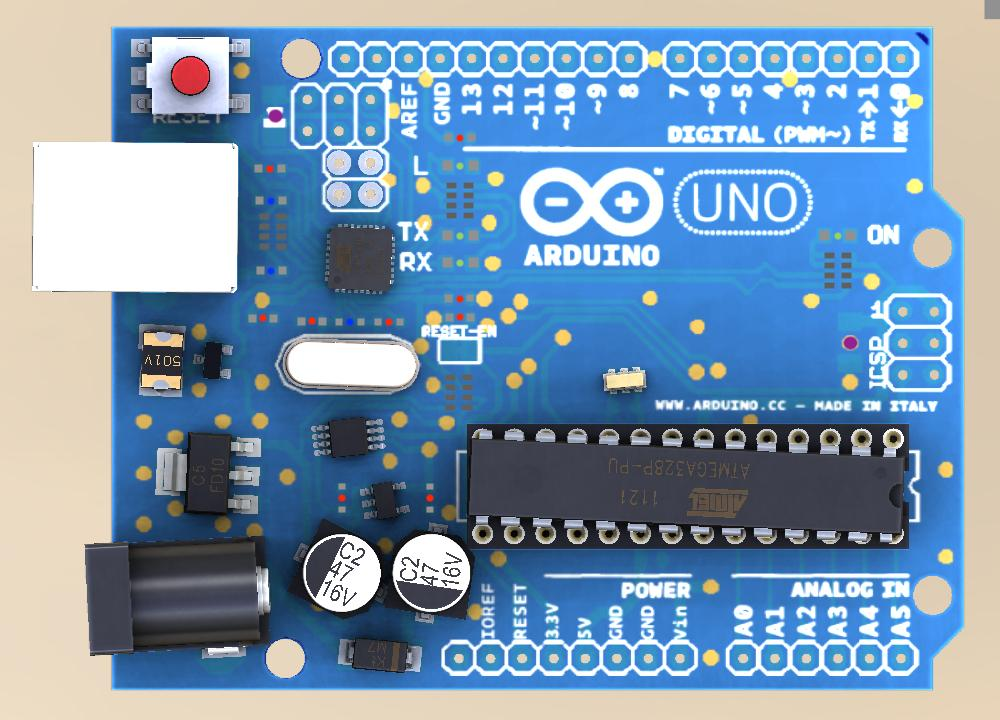16MHz Crystal: (598, 365, 650, 396)
47uF CAP: (288, 518, 386, 620), (386, 518, 475, 623)
ATMEL328P: (468, 425, 908, 548)
ATMega16u2: (323, 222, 399, 297)
Crystal: (280, 334, 420, 397)
Fuse: (134, 322, 186, 401)
LMV358: (361, 477, 413, 526)
M7 diode: (332, 635, 423, 677)
Power: (80, 537, 266, 661)
Regulator: (127, 414, 277, 537)
Reset: (125, 30, 254, 127)
SSOT3: (192, 338, 235, 385)
USB: (30, 141, 240, 296)
lp2985: (308, 415, 386, 461)
